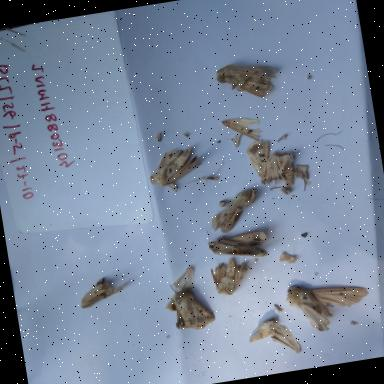abw: (276, 260, 380, 344), (190, 46, 294, 112), (195, 216, 284, 274), (195, 176, 274, 240), (136, 136, 212, 196), (152, 278, 220, 342), (196, 245, 260, 303), (63, 265, 131, 316)
